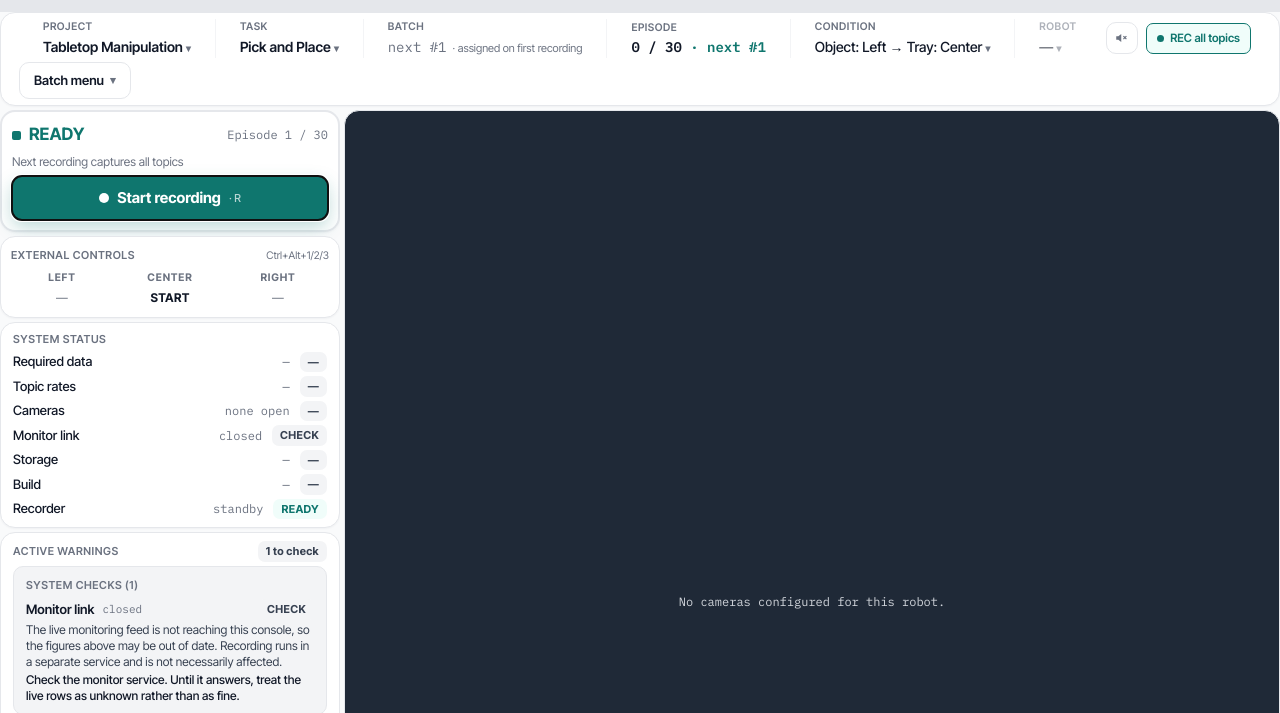
Test case: a 500 review_sidecar_write_failed says NOTHING was saved, loudly
Expected: the heading with test id "phase-title" reads "READY", [29,124,84,144]
What coordinates should you click on to do the following:
click the button "Start recording · R"
I would click on:
 (170, 198)
Its box is [12,176,328,220].
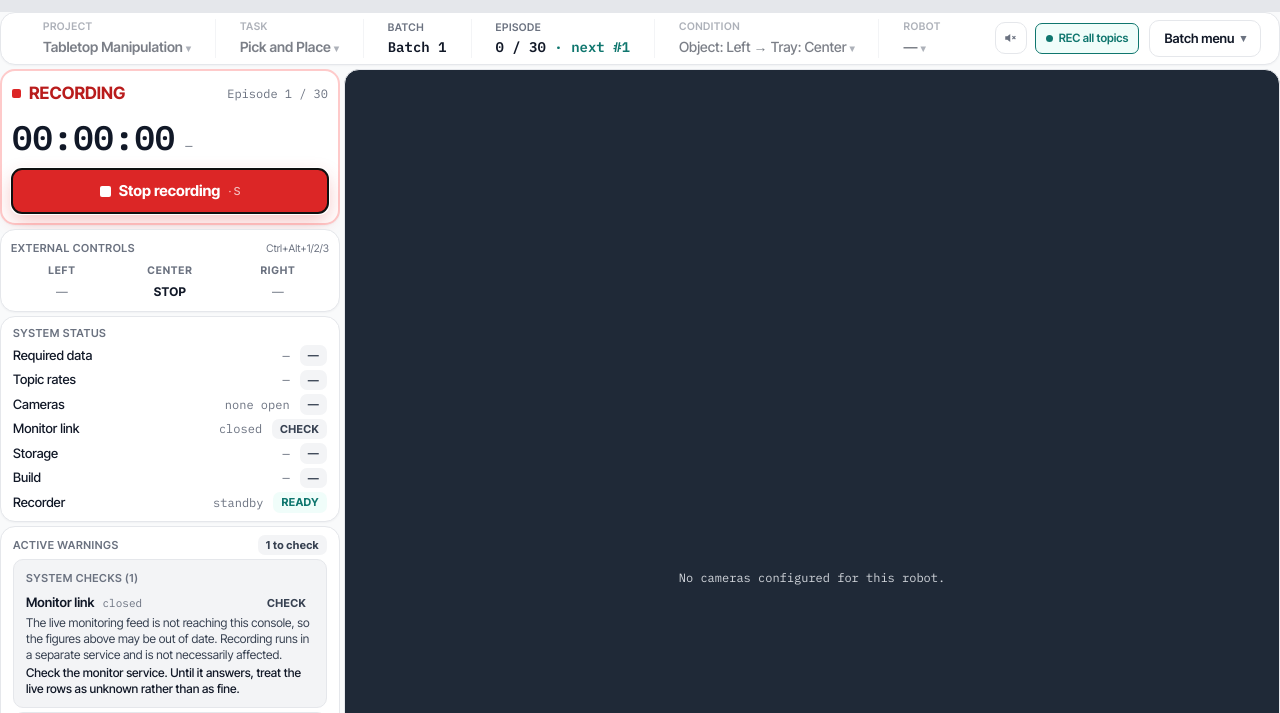
Expected: the heading with test id "phase-title" reads "RECORDING", [29,83,125,103]
What coordinates should you click on to do the following:
click the button "Stop recording · S"
I would click on:
 (170, 191)
Its box is [12,169,328,213].
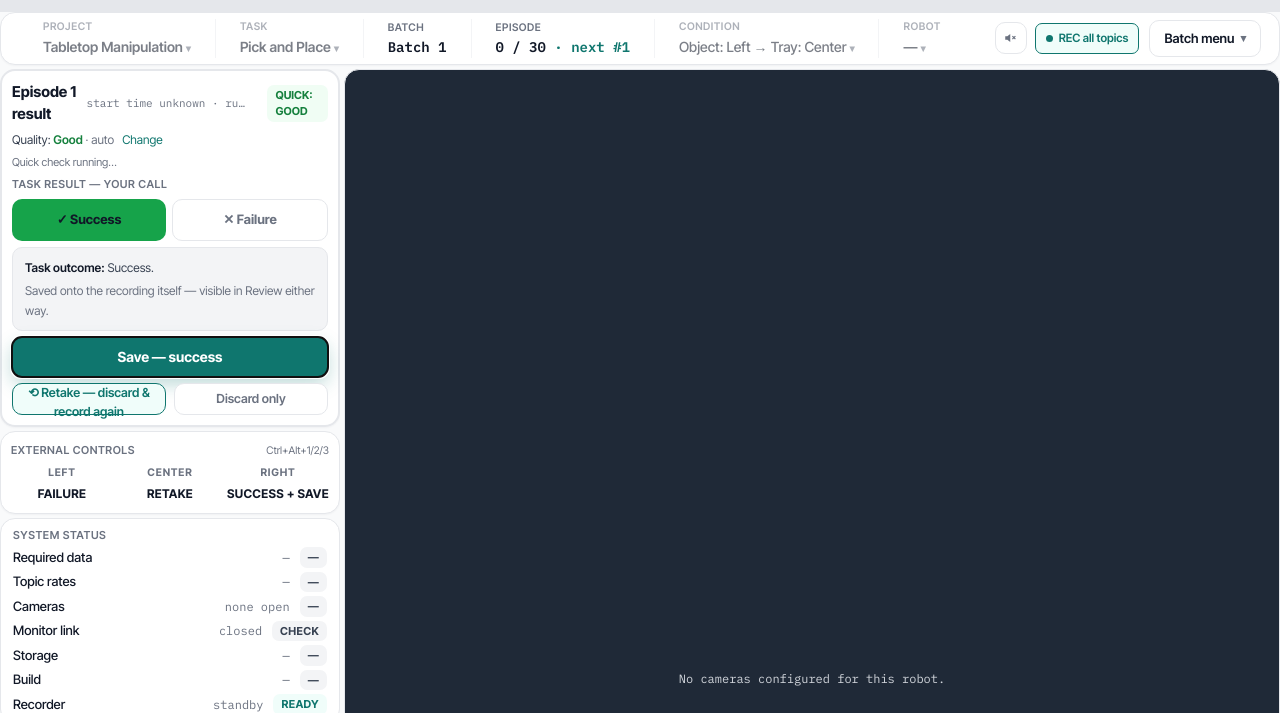
Expected: the heading with test id "phase-title" reads "Episode 1 result", [12,81,79,126]
What coordinates should you click on to do the following:
click the button with test id "save-episode"
I would click on:
 (170, 357)
Its box is [12,337,328,377].
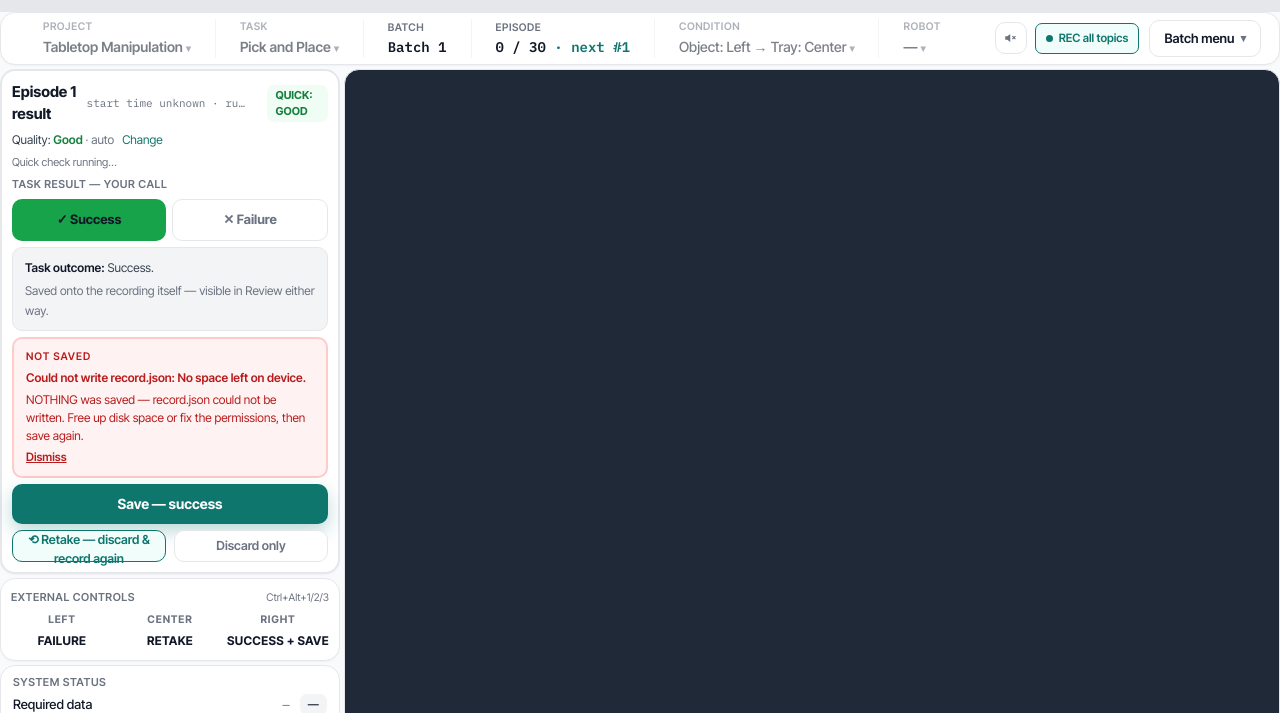
Expected: the message with test id "save-error" shows "Not saved", [26,350,91,363]
Expected: the message with test id "save-error" shows "NOTHING was saved", [26,392,305,443]
What coordinates should you click on to do the following:
click the button with test id "save-error-dismiss"
I would click on:
 (46, 458)
Its box is [26,449,67,466].
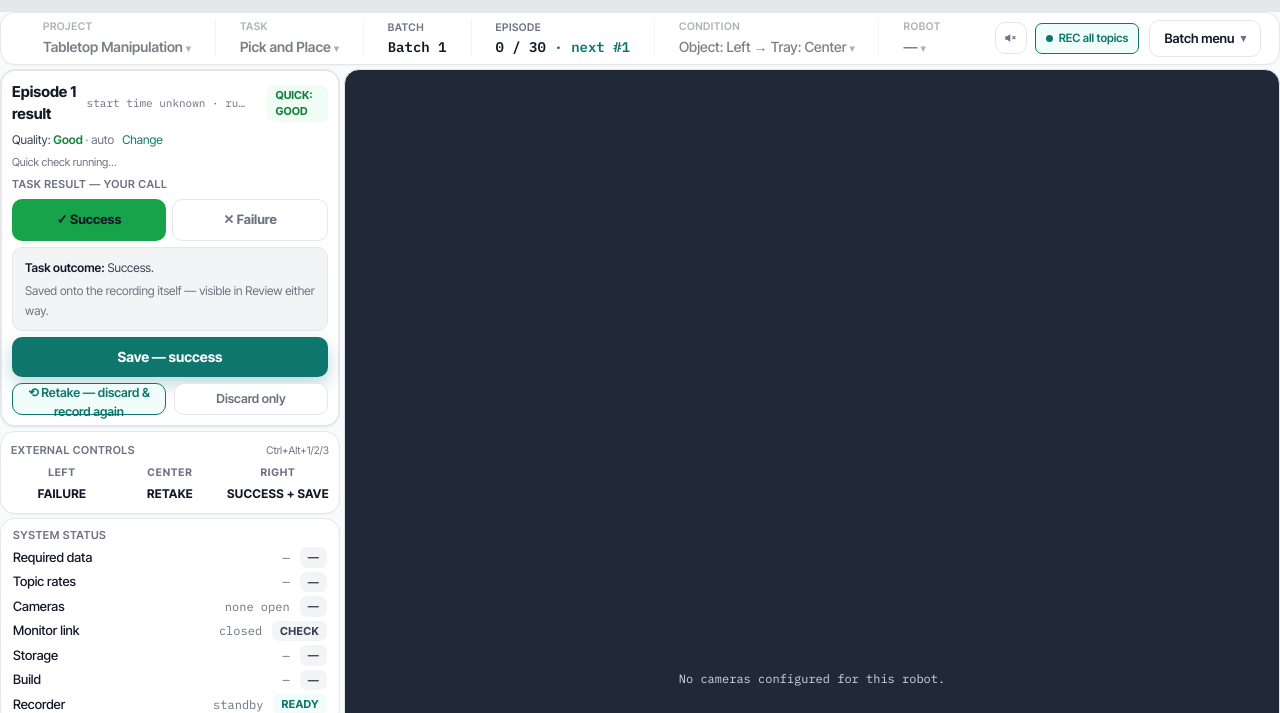
Expected: the message with test id "save-error" is gone
